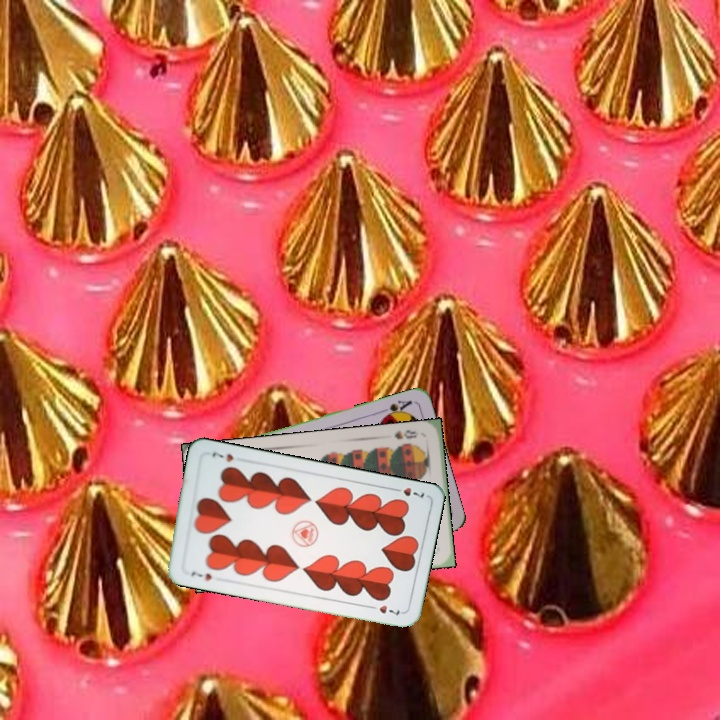H7: (388, 483, 427, 500), (187, 567, 214, 583)
S8: (390, 425, 421, 442)
SA: (376, 396, 415, 421)
